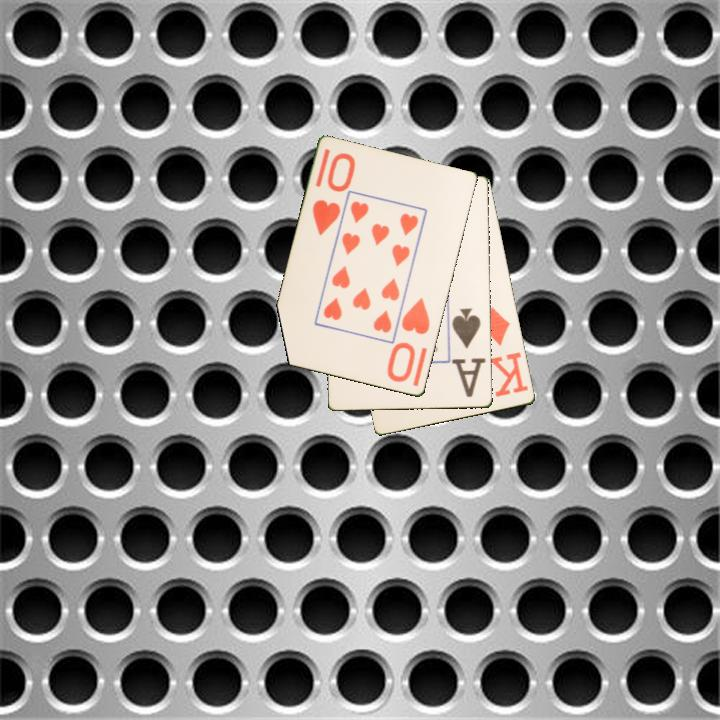10h: (385, 294, 433, 386), (309, 150, 356, 239)
As: (449, 305, 484, 392)
Kd: (479, 304, 531, 400)
